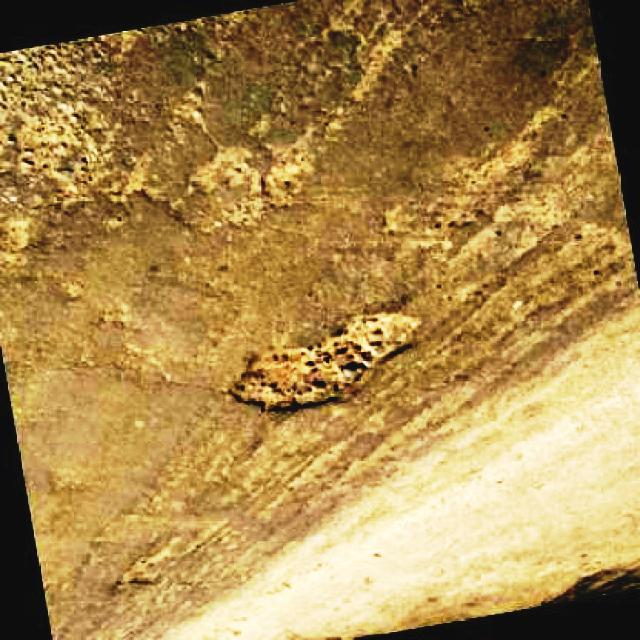pothole: (230, 309, 422, 414), (186, 142, 329, 209), (0, 92, 103, 174)
